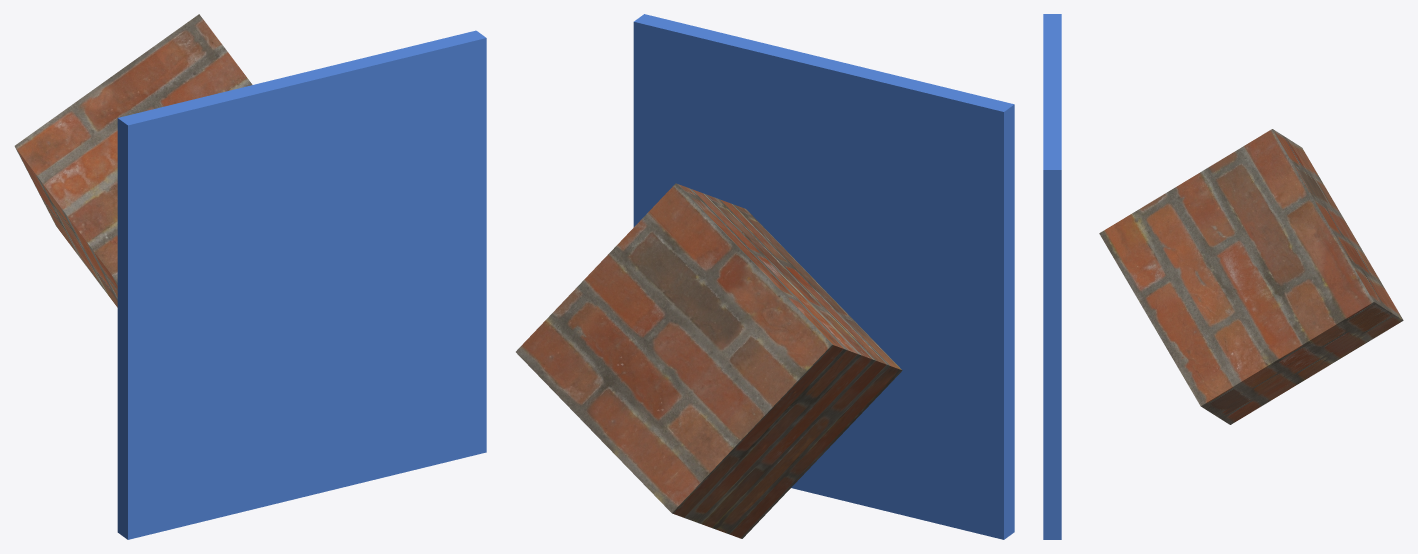
The picture shows the model from 3 angles, left to right: view 1: azimuth 30°, elevation 25°; view 2: azimuth 150°, elevation 25°; view 3: azimuth 270°, elevation 25°; orthographic projection. The views are drawn at different scales.
Visible parts, largest first — view 1: Cube.001, Cube; view 2: Cube.001, Cube; view 3: Cube, Cube.001.
Part boxes in pixels (box(x1,y1,x2,y2)): Cube.001: box(117, 30, 486, 539); Cube: box(14, 14, 252, 307); Cube.001: box(633, 14, 1014, 539); Cube: box(516, 183, 902, 538); Cube: box(1099, 129, 1403, 424); Cube.001: box(1043, 14, 1061, 539).
Bounding box in the file's own units: 3.64 × 4.02 × 3.55.
Materials: 2 (1 with a texture image).
